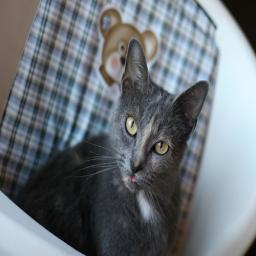catnose: (131, 148, 146, 174)
